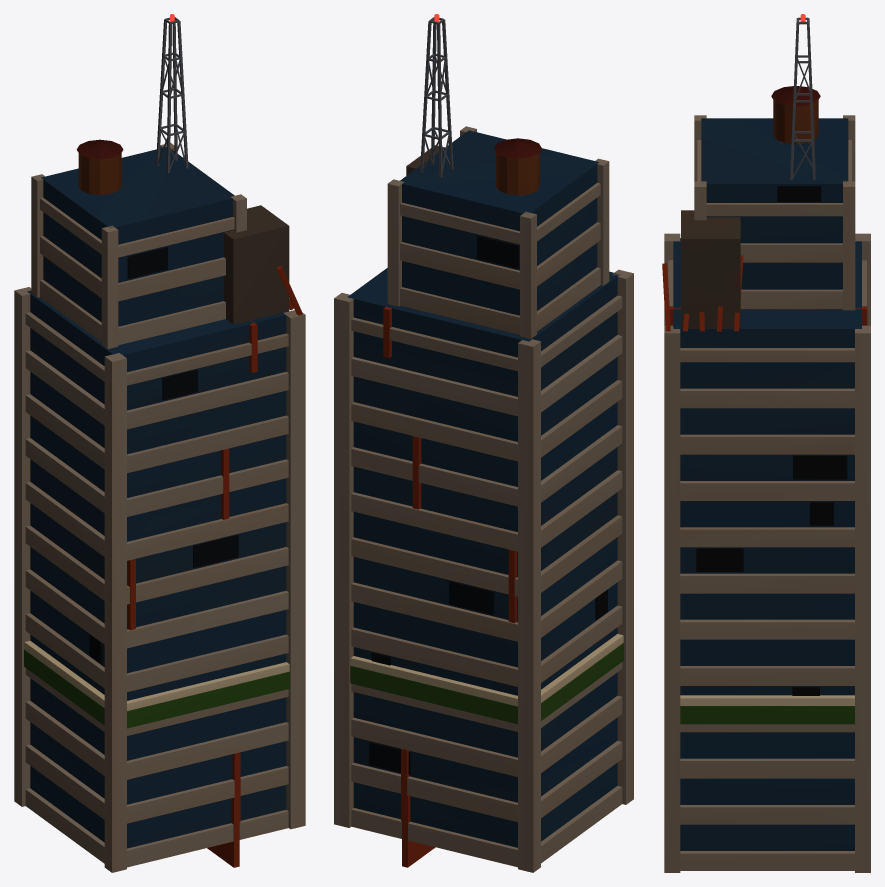
Rendered from tb_tower_glass.glb.
The picture shows the model from 3 angles, left to right: view 1: azimuth 30°, elevation 25°; view 2: azimuth 150°, elevation 25°; view 3: azimuth 270°, elevation 25°; orthographic projection. The views are drawn at different scales.
Visible parts, largest first — view 1: tower_glass_body; view 2: tower_glass_body; view 3: tower_glass_body.
Part boxes in pixels (bbox=[...]): tower_glass_body: bbox=[14, 14, 305, 872]; tower_glass_body: bbox=[334, 14, 633, 872]; tower_glass_body: bbox=[662, 14, 870, 872].
Bounding box in the file's own units: 16.64 × 66.21 × 14.72.
